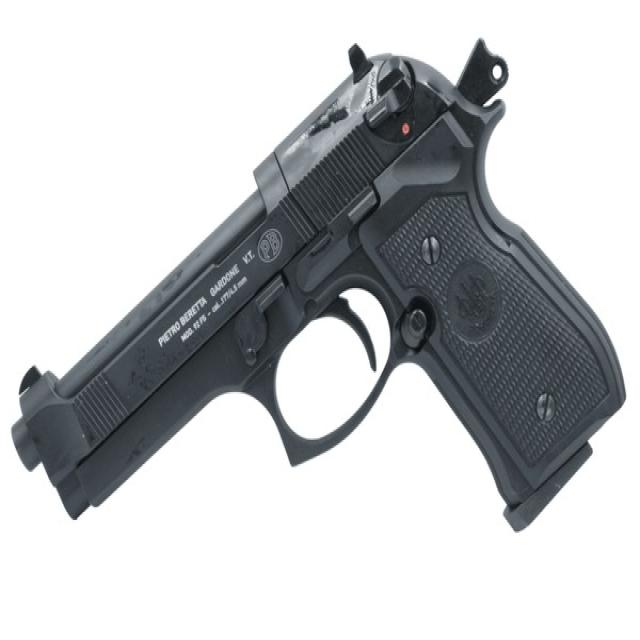Gun: (0, 24, 629, 562)
